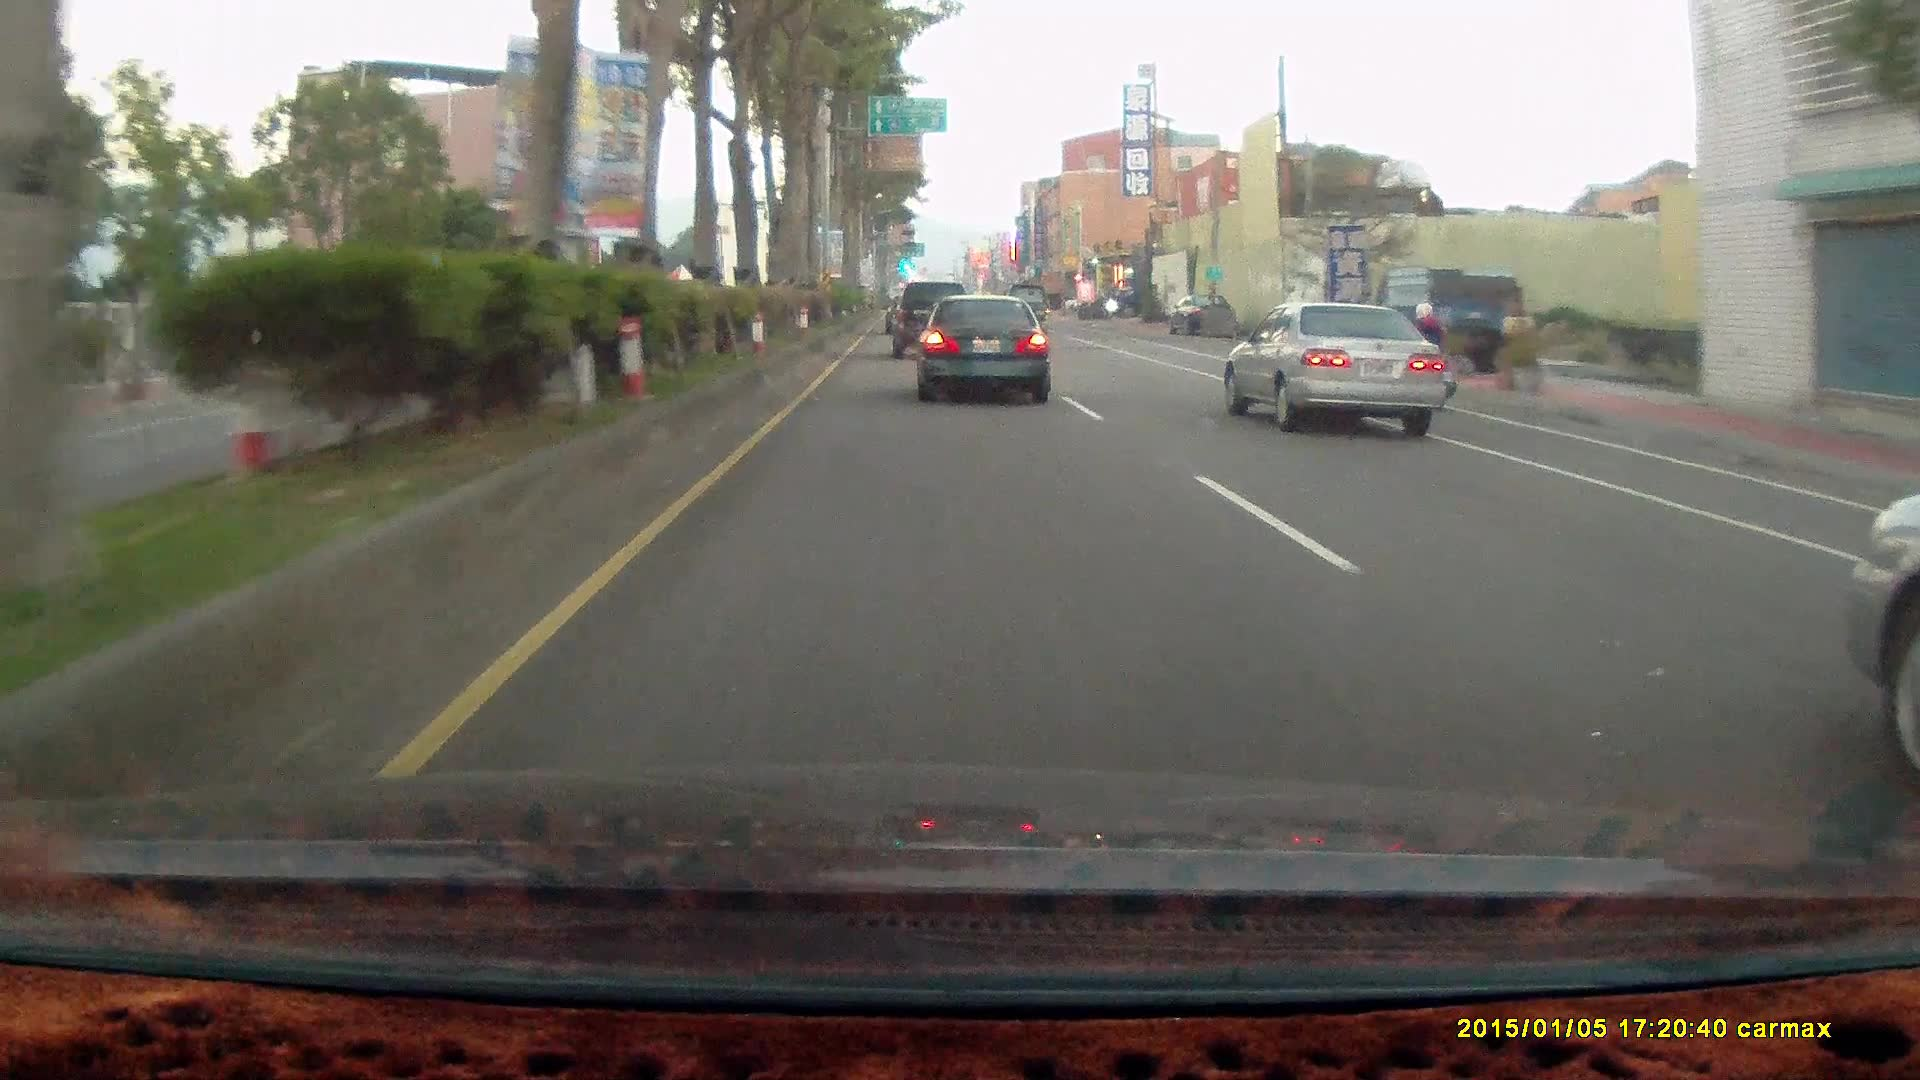rider: (1390, 301, 1454, 414), (1394, 293, 1455, 412)
vehicle: (1222, 299, 1447, 437), (1236, 302, 1453, 440), (911, 294, 1049, 404), (1381, 268, 1523, 370), (1380, 267, 1522, 369), (918, 297, 1054, 403), (888, 281, 971, 359), (1167, 295, 1241, 343), (1102, 282, 1167, 320), (1001, 281, 1047, 331)
